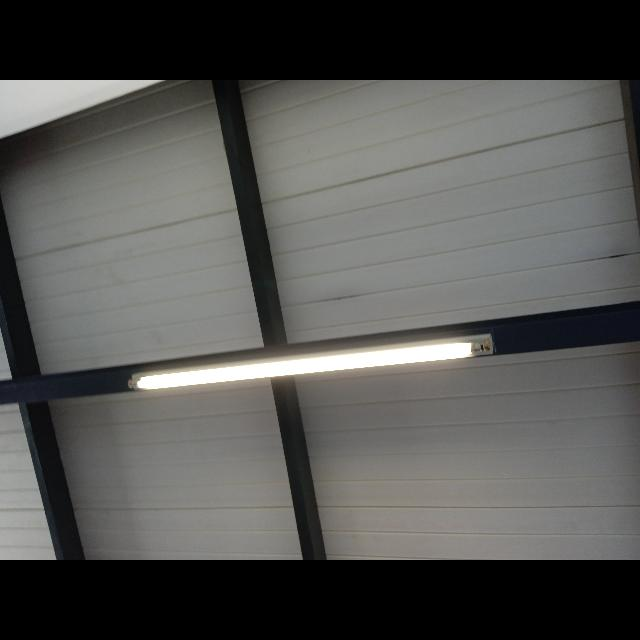Straight-Tube-Fluorescent-Lamp: (112, 322, 506, 404)
